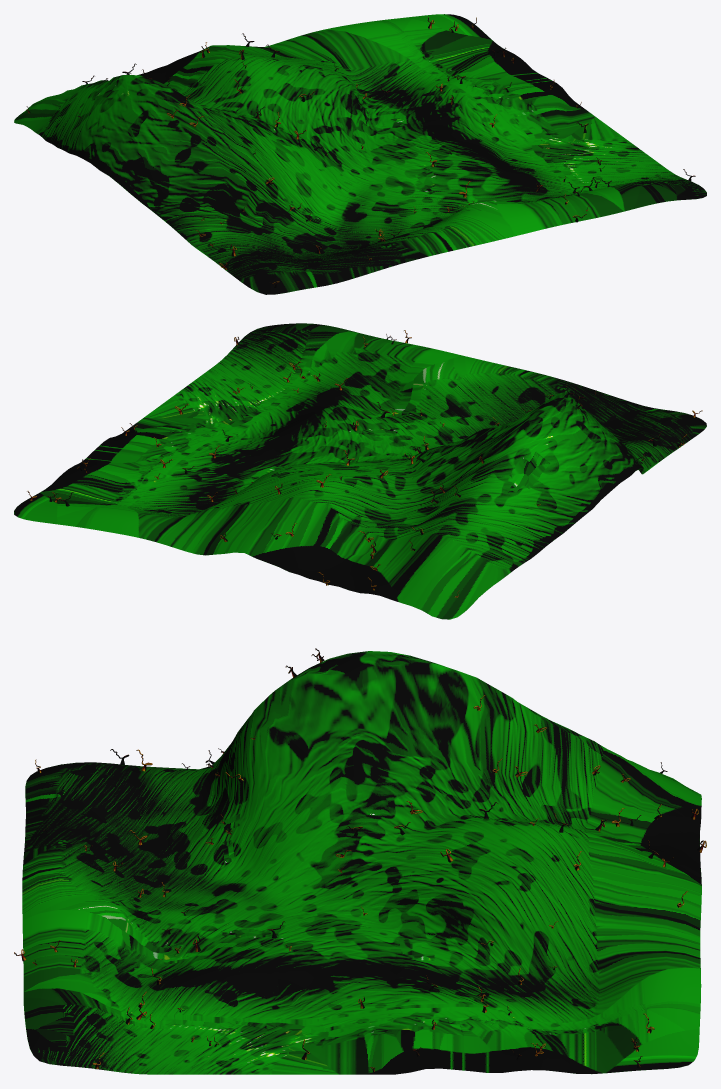
File: island.glb
3 renders of one model, top to bottom at view 1: azimuth 30°, elevation 25°; view 2: azimuth 150°, elevation 25°; view 3: azimuth 270°, elevation 25°, orthographic. The views are drawn at different scales.
Parts seen in each view (by area): view 1: Plane.033; view 2: Plane.033; view 3: Plane.033.
Boxes of the visible parts, x1,y1,x2,y2 form: Plane.033: [14, 14, 706, 294]; Plane.033: [14, 323, 706, 619]; Plane.033: [14, 648, 706, 1074].
Size of the model in its own units: 551 by 138 by 519.
2 materials, 2 textured.
